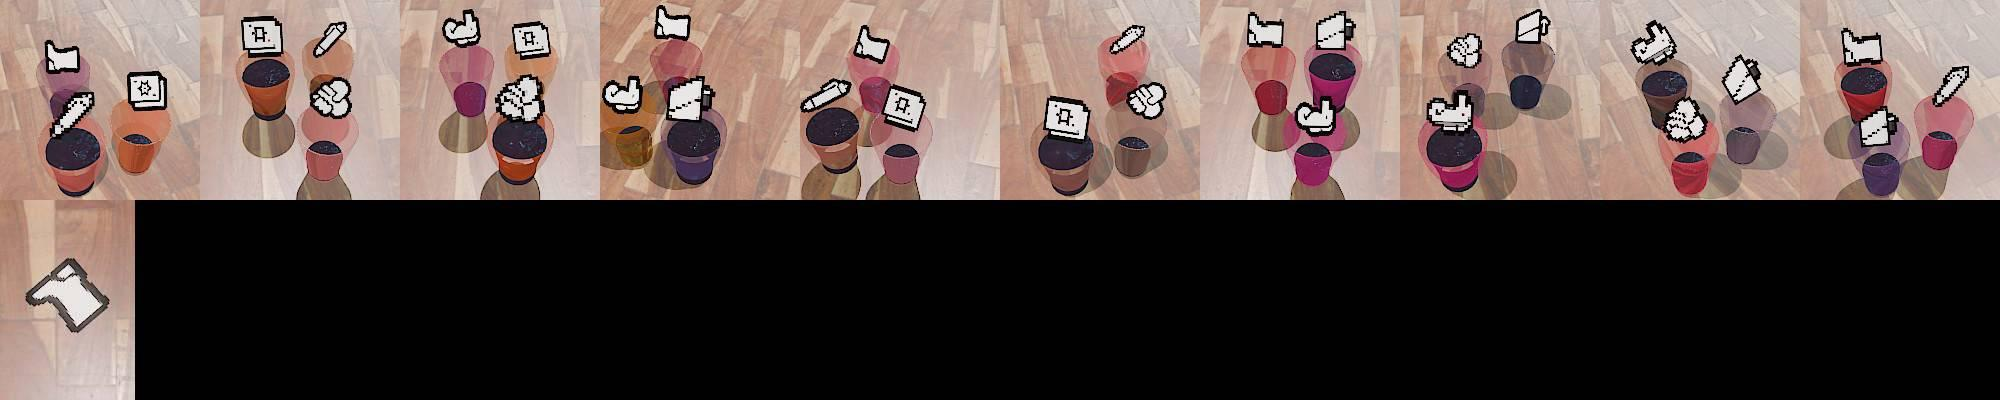icon: (25, 257, 111, 334), (494, 74, 544, 123), (1721, 53, 1765, 108), (1042, 95, 1091, 143), (1631, 17, 1678, 66), (1426, 86, 1476, 132), (664, 75, 711, 122), (49, 90, 96, 137), (880, 83, 926, 131), (1663, 95, 1709, 142), (801, 75, 852, 115), (309, 75, 352, 118), (1314, 10, 1356, 52), (240, 16, 284, 56), (1933, 65, 1971, 111), (511, 20, 552, 61), (602, 74, 645, 113), (1840, 27, 1882, 66), (1859, 107, 1899, 147), (1126, 81, 1167, 120), (126, 71, 167, 110), (441, 9, 481, 48), (852, 25, 891, 64), (654, 4, 692, 42), (1246, 12, 1285, 49), (1514, 7, 1550, 46), (1445, 32, 1483, 68), (312, 21, 347, 59), (44, 40, 81, 74), (1110, 22, 1146, 55), (1295, 100, 1334, 129)
